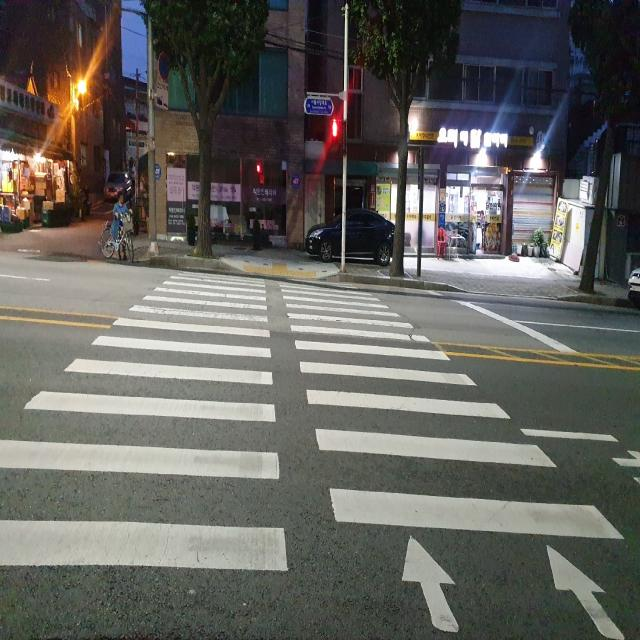빨간불: (332, 120, 342, 157)
횡단보도: (0, 268, 627, 639)
